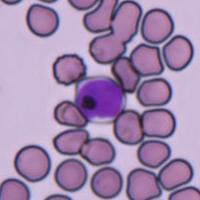L: (74, 76, 125, 122)
